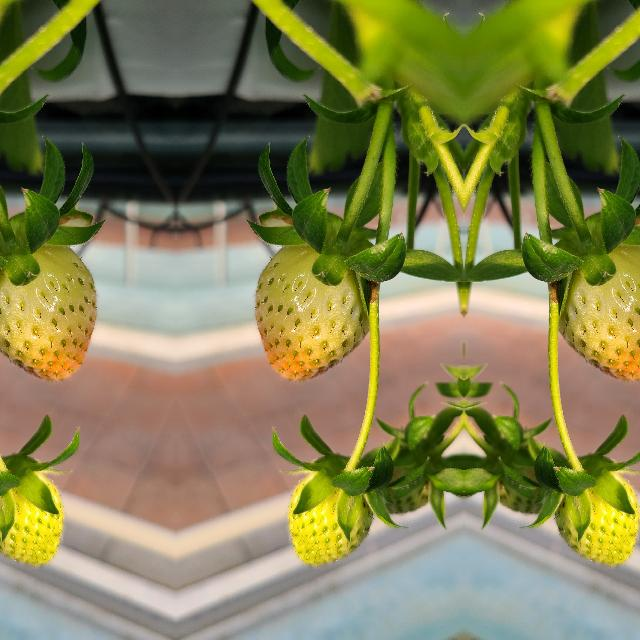Health_25: (286, 465, 372, 571), (554, 465, 640, 571), (0, 465, 64, 571)
Health_50: (254, 246, 366, 380), (0, 246, 96, 379), (560, 246, 640, 379)
